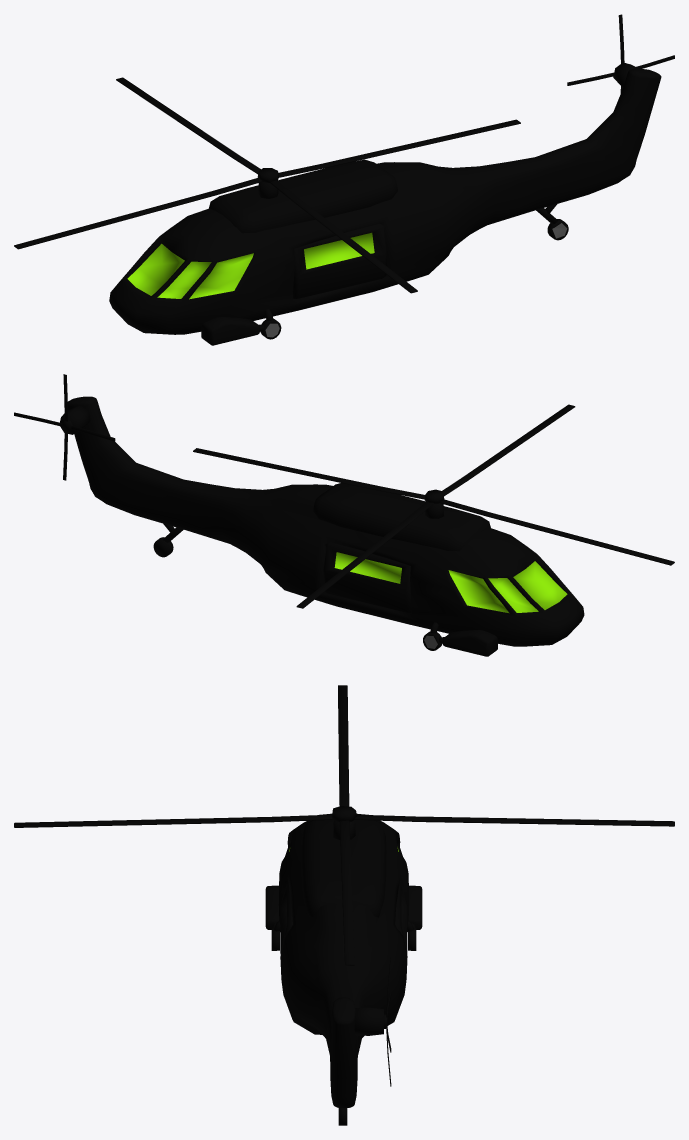
Rendered from BrokeHeli.fbx.
3 views of the same model, one above another, from view 1: azimuth 30°, elevation 25°; view 2: azimuth 150°, elevation 25°; view 3: azimuth 270°, elevation 25° (orthographic). The views are drawn at different scales.
Parts seen in each view (by area): view 1: Heli, BigBlade, SmallBlade; view 2: Heli, BigBlade, SmallBlade; view 3: Heli, BigBlade.
Boxes of the visible parts, bbox=[...] form: Heli: bbox=[109, 62, 661, 345]; BigBlade: bbox=[14, 77, 520, 293]; SmallBlade: bbox=[567, 14, 674, 93]; Heli: bbox=[60, 396, 584, 656]; BigBlade: bbox=[193, 404, 674, 608]; SmallBlade: bbox=[14, 374, 115, 480]; Heli: bbox=[265, 806, 422, 1125]; BigBlade: bbox=[14, 685, 674, 965].
Size of the model in its own units: 449 by 119 by 334.
